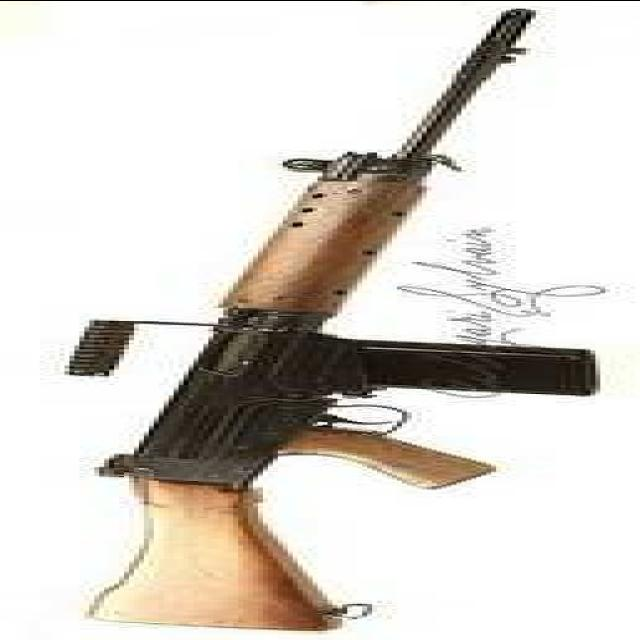heavyweapon: (12, 4, 562, 631)
